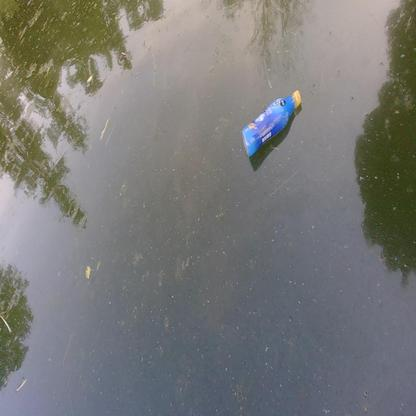plastic bottle: (240, 89, 303, 158)
